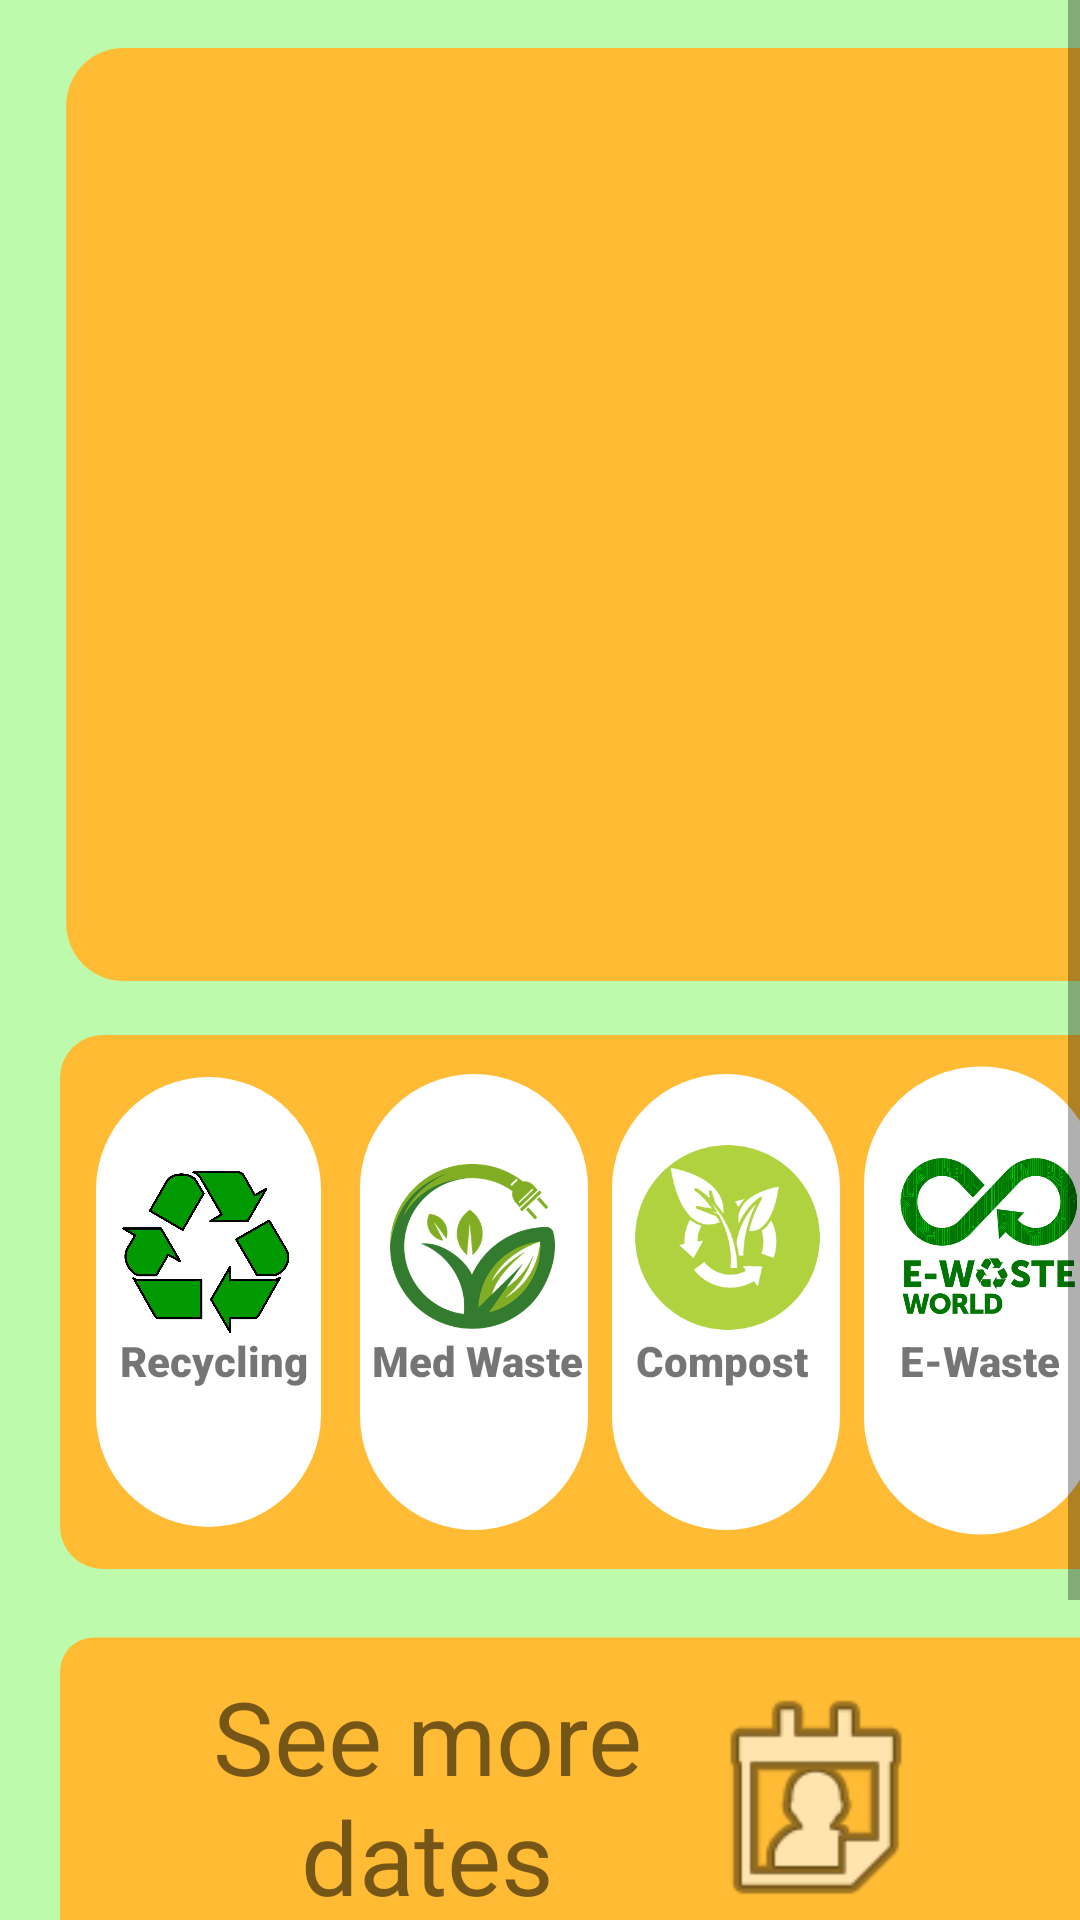

Icons on this 1080*1920 Android screen, each with its box as (x1, y1, x2, y2):
calendar: (730, 1700, 902, 1894)
